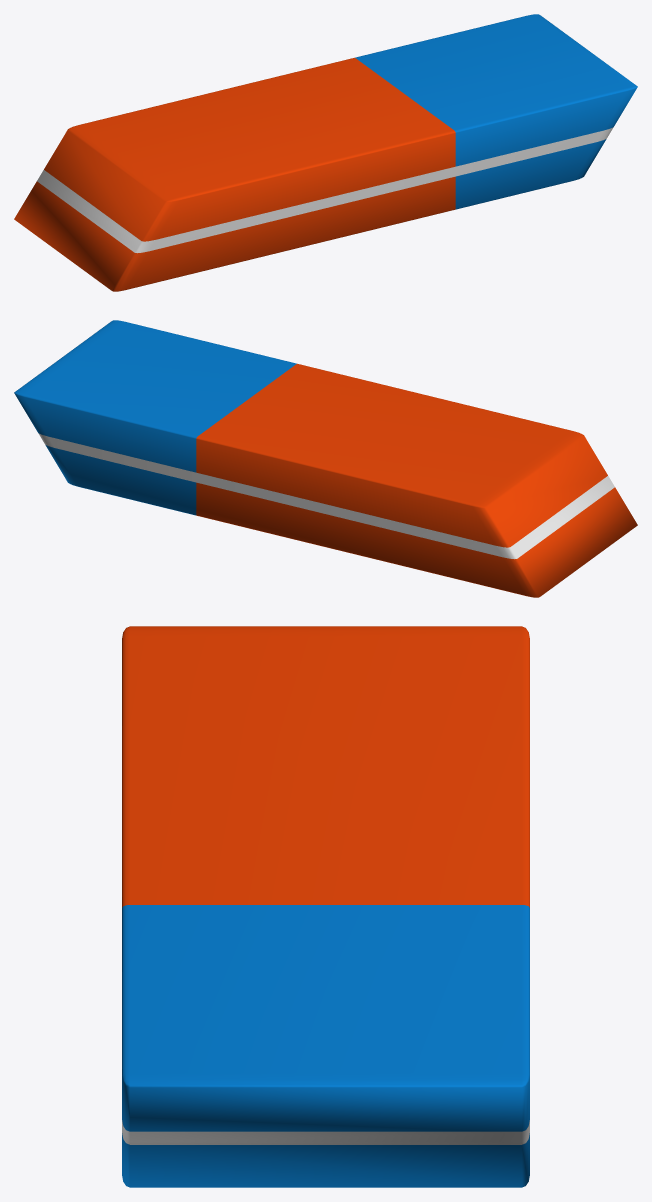
Rendered from erasrer.fbx.
3 views of the same model, one above another, from view 1: azimuth 30°, elevation 25°; view 2: azimuth 150°, elevation 25°; view 3: azimuth 270°, elevation 25° (orthographic). The views are drawn at different scales.
Visible parts, largest first — view 1: Rubber; view 2: Rubber; view 3: Rubber.
Part boxes in pixels (x1,y1,x2,y2): Rubber: (14,14,637,291); Rubber: (14,320,637,597); Rubber: (122,626,529,1187).
Size of the model in its own units: 269 by 38.62 by 90.21.
